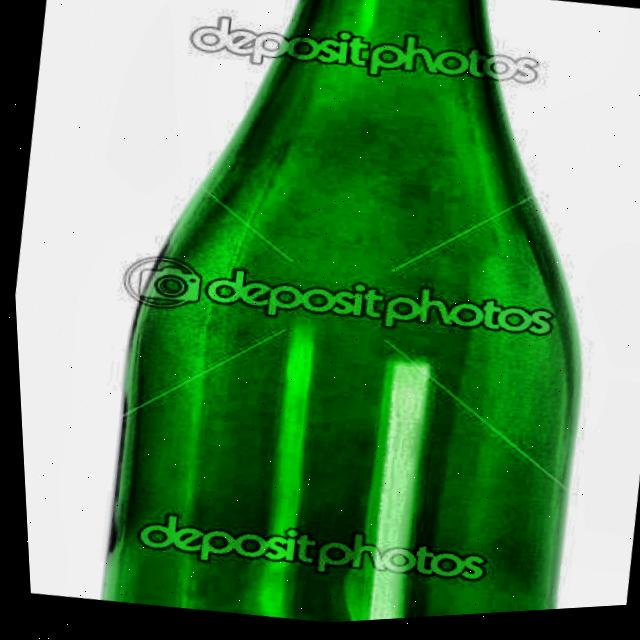glass: (91, 0, 580, 626)
